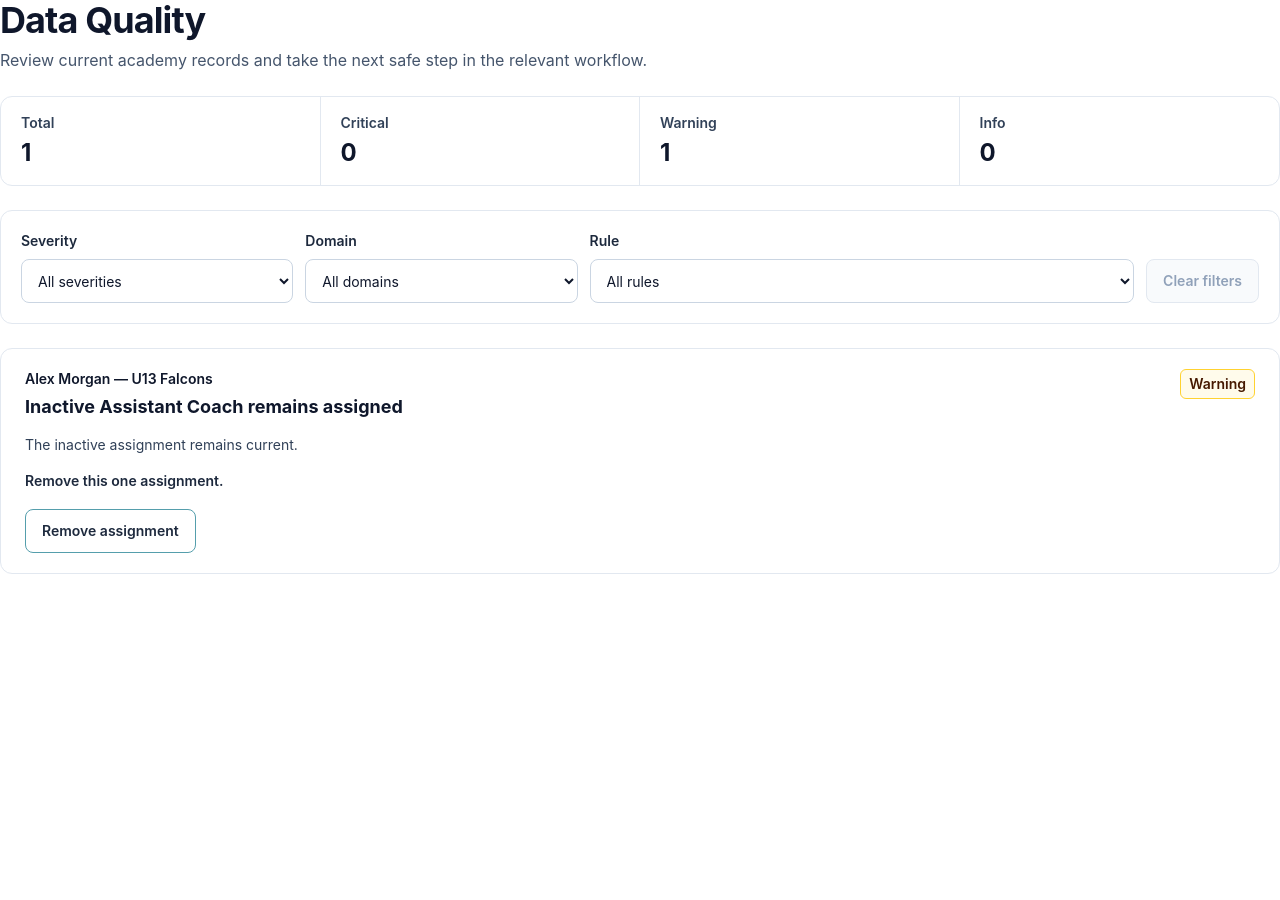
Test case: Data Quality remediation › closes stale confirmation and re-evaluates after a conflict
Click the button "Remove assignment": (110, 531) x1=25 y1=509 x2=196 y2=553
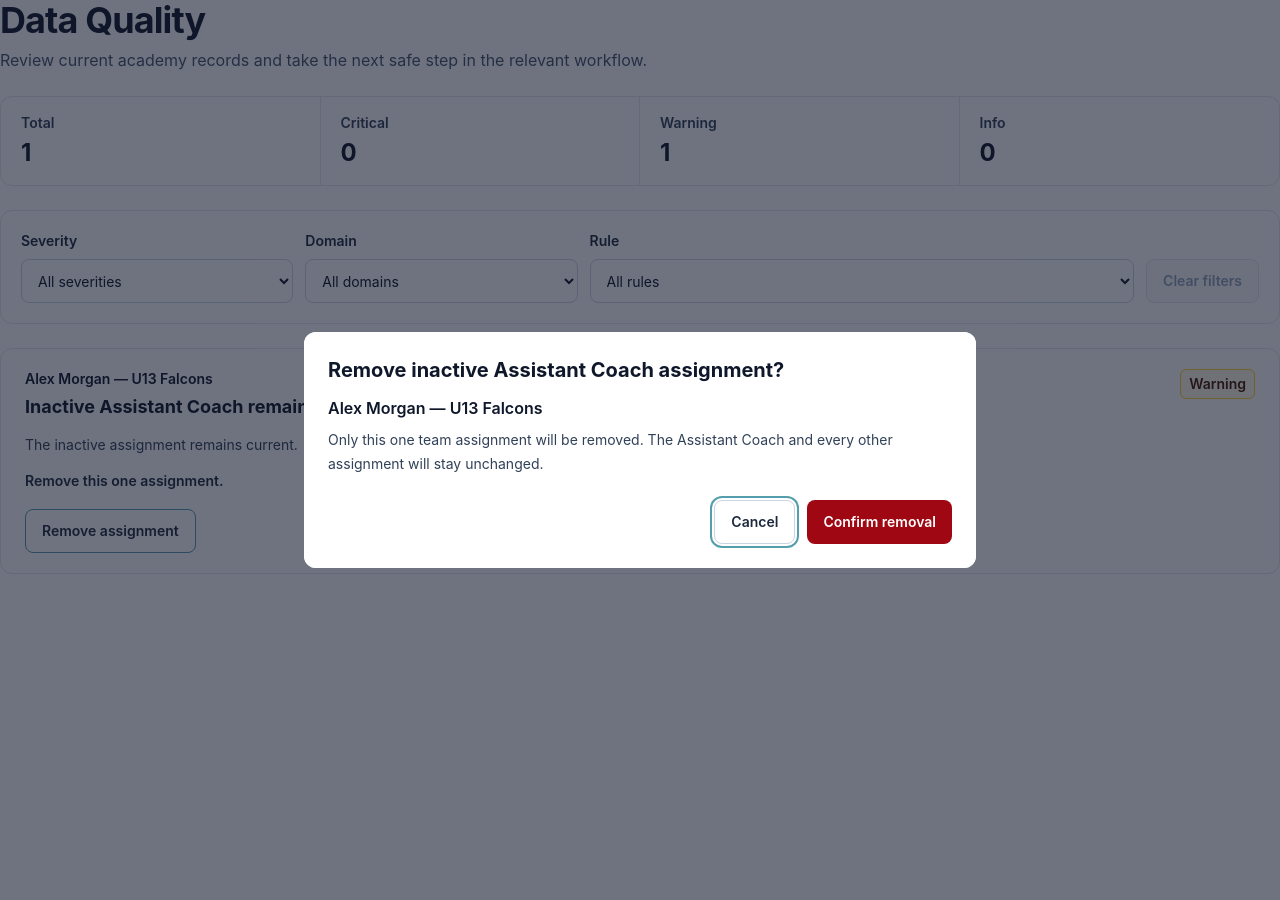
Click the button "Confirm removal": (880, 522) x1=807 y1=500 x2=952 y2=544
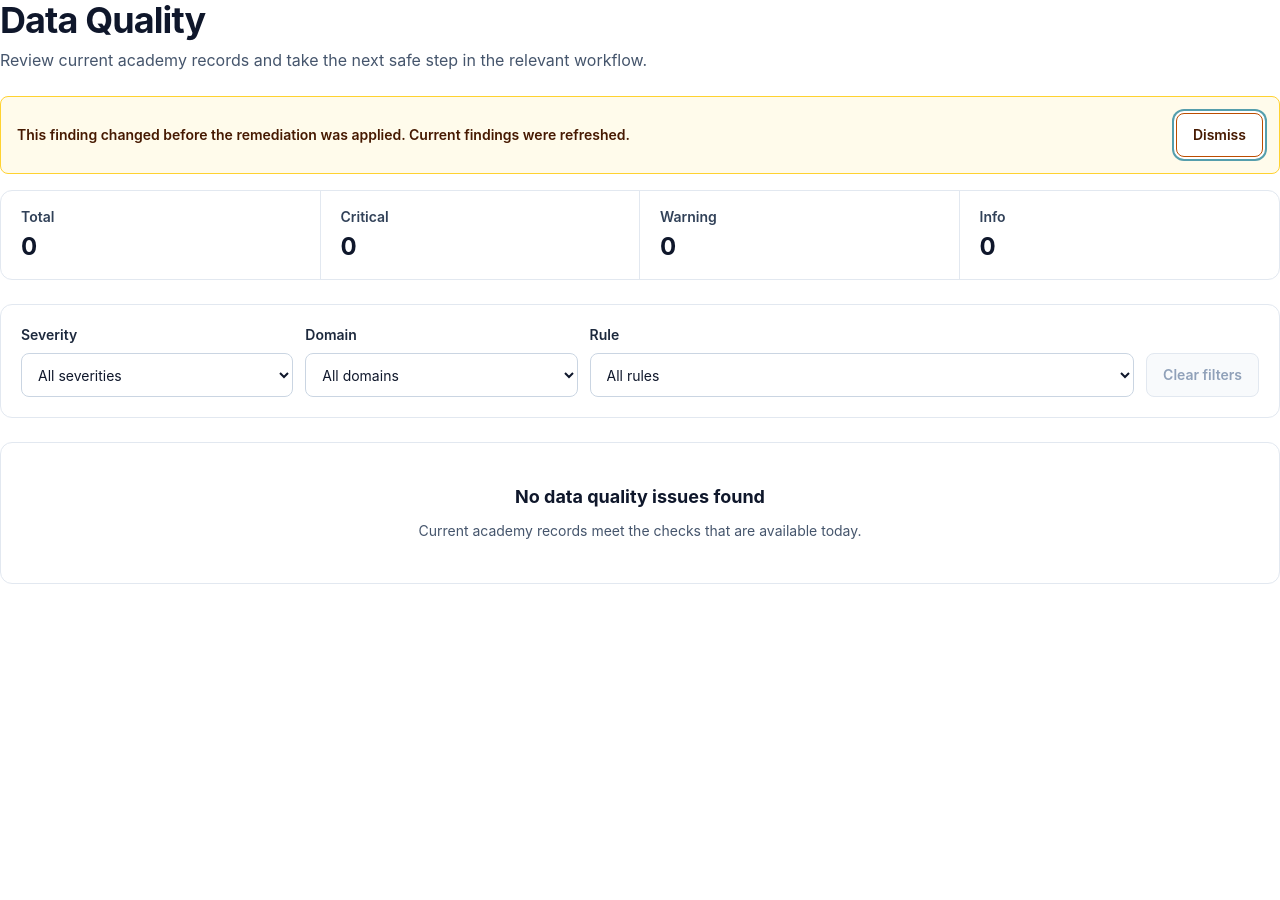
Expected: the message shows "This finding changed before the remediation was applied. Current findings were refreshed.", x1=17 y1=126 x2=630 y2=143
Expected: the dialog is gone
Expected: the heading "No data quality issues found" is shown, x1=515 y1=486 x2=765 y2=507
